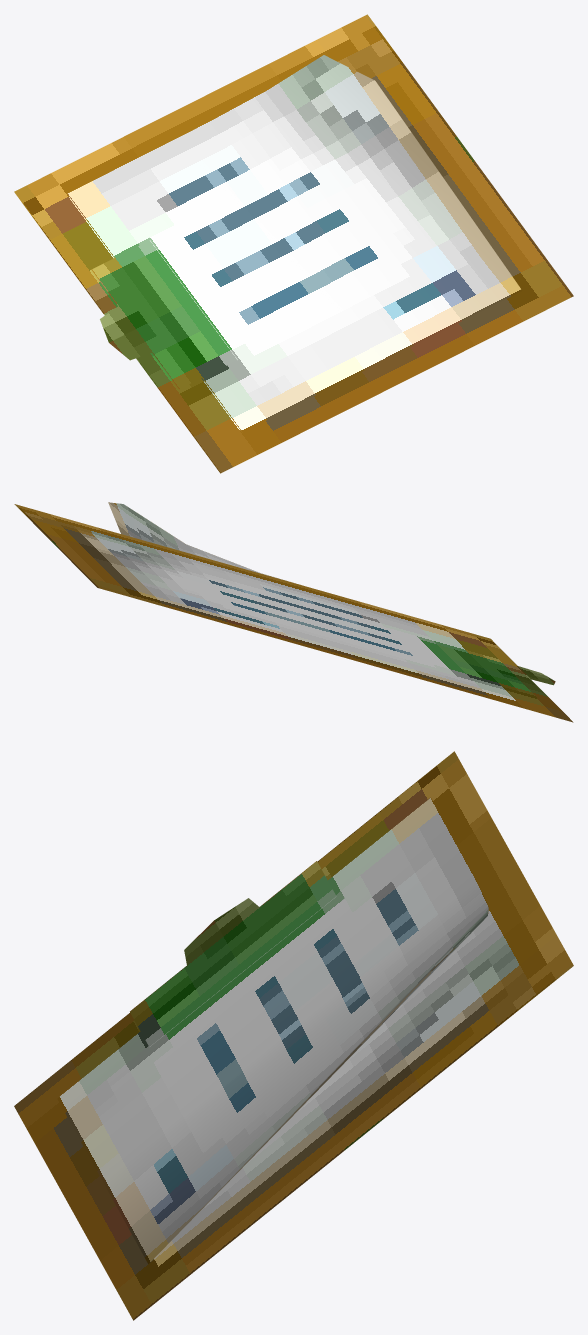
The model's file is fg_signature_form.dae.
3 renders of one model, top to bottom at view 1: azimuth 30°, elevation 25°; view 2: azimuth 150°, elevation 25°; view 3: azimuth 270°, elevation 25°, orthographic. The views are drawn at different scales.
Visible parts, largest first — view 1: fg_signature_form; view 2: fg_signature_form; view 3: fg_signature_form.
Part boxes in pixels (x1,y1,x2,y2): fg_signature_form: (14, 14, 573, 473); fg_signature_form: (14, 502, 573, 722); fg_signature_form: (14, 751, 573, 1320).
Size of the model in its own units: 17.85 by 9.28 by 12.1.
Materials: 1 (1 with a texture image).
